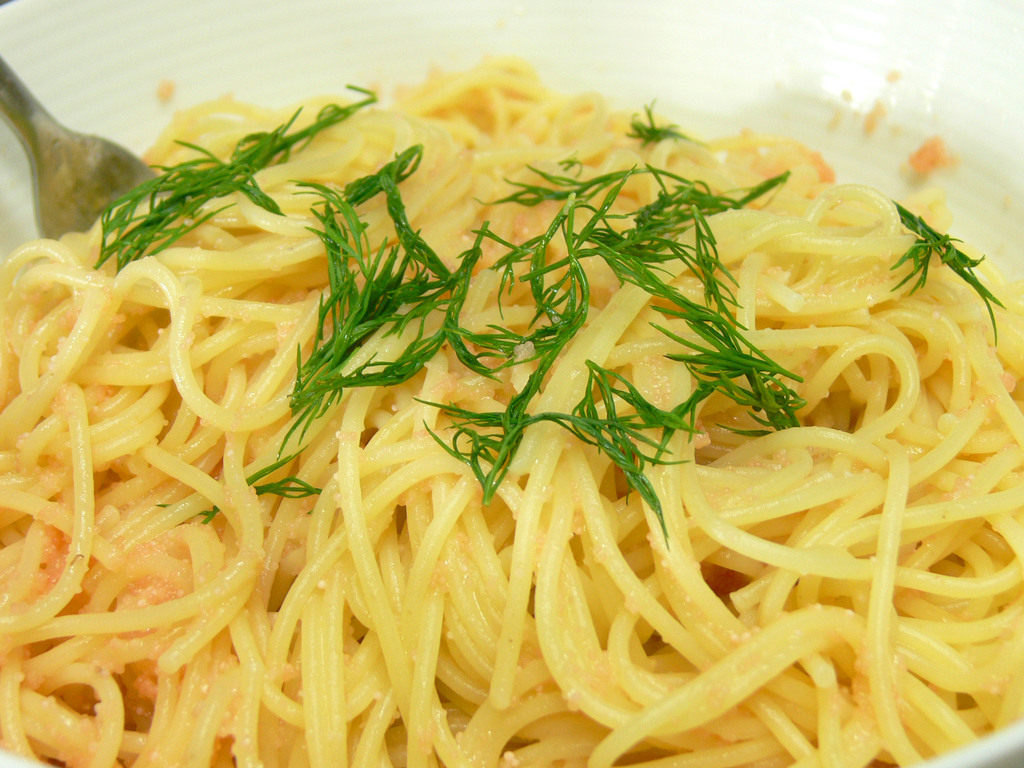pasta: (0, 54, 1023, 767)
